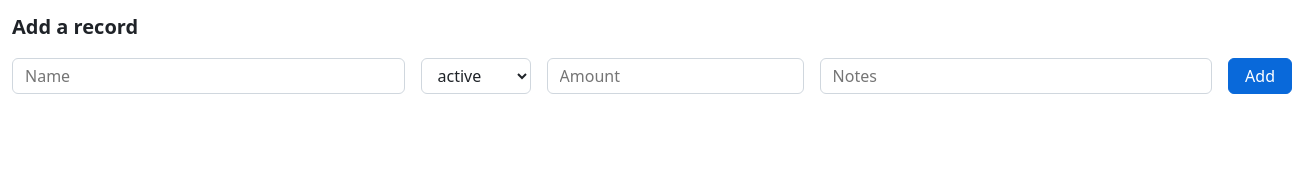
Test: NewRecordForm › clears the inputs after a successful create
Type "Gamma" into the field named "New name".
click(208, 76); type("Gamma")  # box [12,58,404,94]
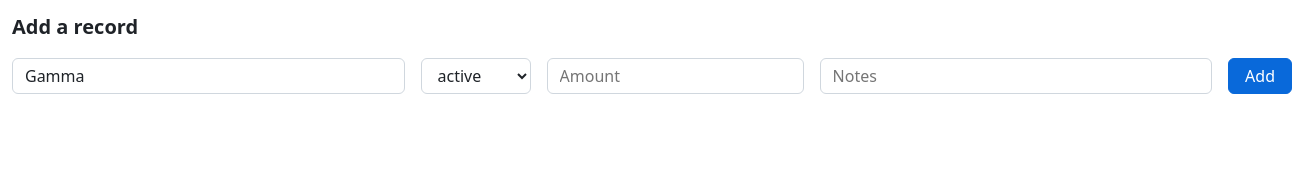
Type "42" into the number field named "New amount".
click(675, 76); type("42")  # box [546,58,804,94]
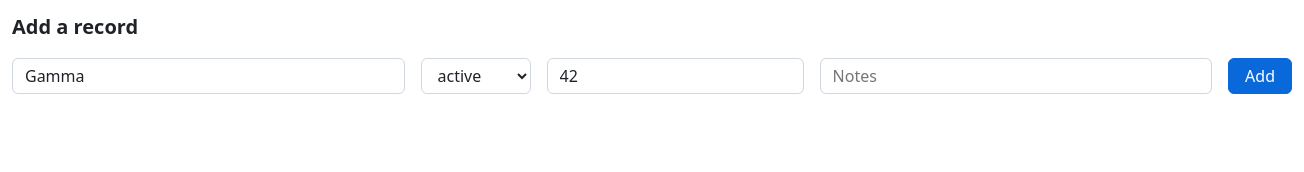
Type "fresh" into the field named "New notes".
click(1016, 76); type("fresh")  # box [820,58,1212,94]
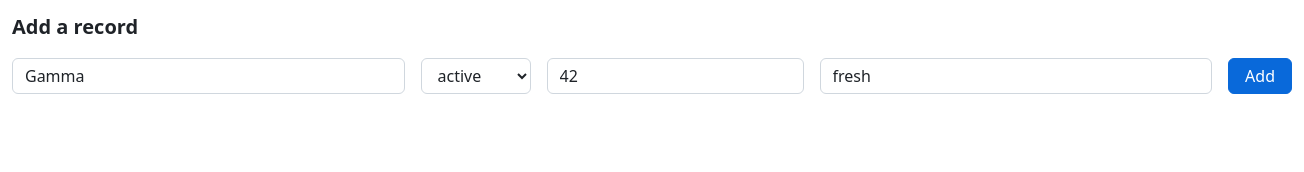
Click the button "Add".
click(1260, 76)  # box [1228,58,1292,94]
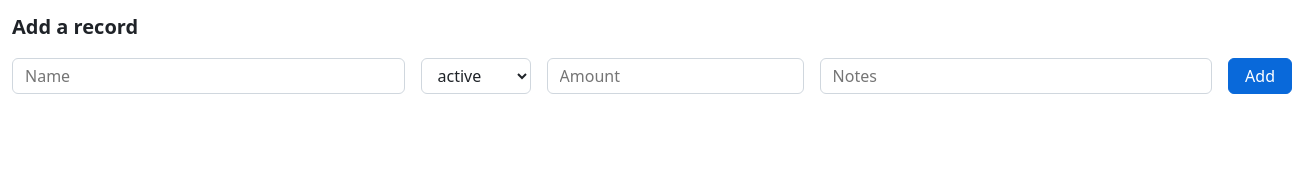
Expected: the field named "New name" is empty, [12,58,404,94]
Expected: the number field named "New amount" is not empty, [546,58,804,94]
Expected: the field named "New notes" is empty, [820,58,1212,94]
